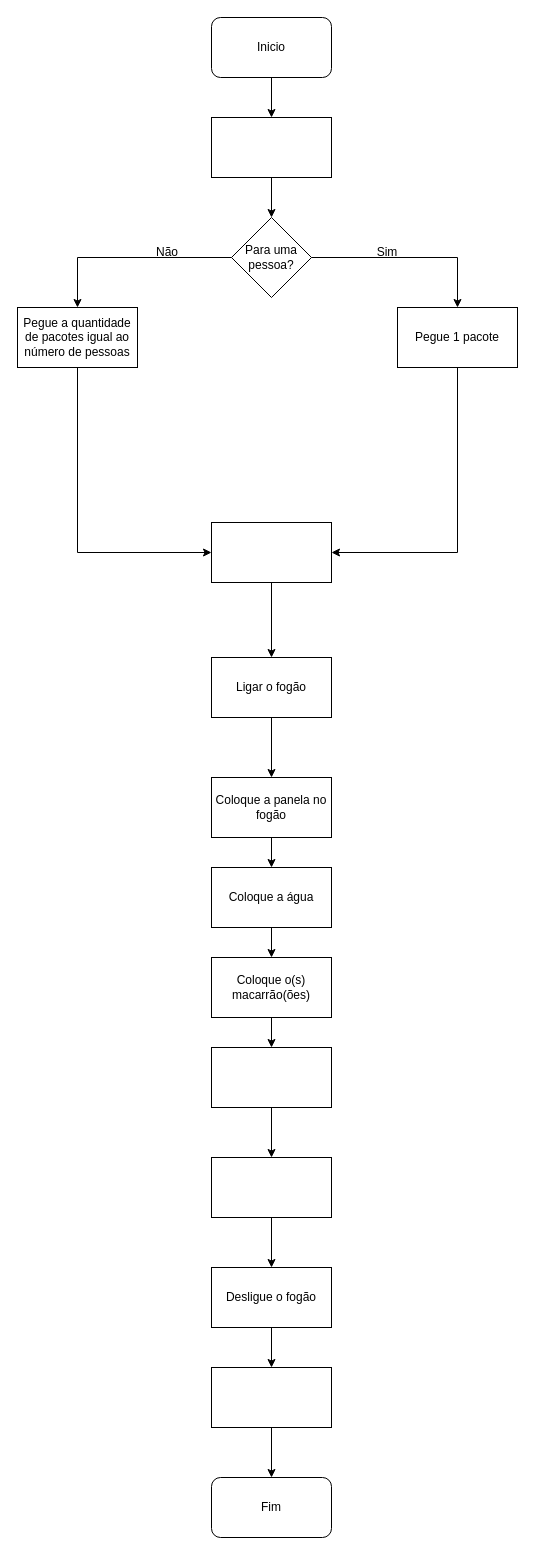
Image size: 535x1555. Some labels were removed from this diagram. Each missing label, with the centre of its shape:
"Aguarde 3 minutos após a água começar a fever" belongs at (271,1187).
"Coloque o tempero" belongs at (271,1077).
"Pegue uma panela adequada" belongs at (271,147).
"Separe a quantidade de água" belongs at (271,552).
"Sirva!!!" belongs at (271,1397).
